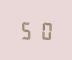five: (19, 19, 34, 39)
zero: (35, 19, 50, 40)
